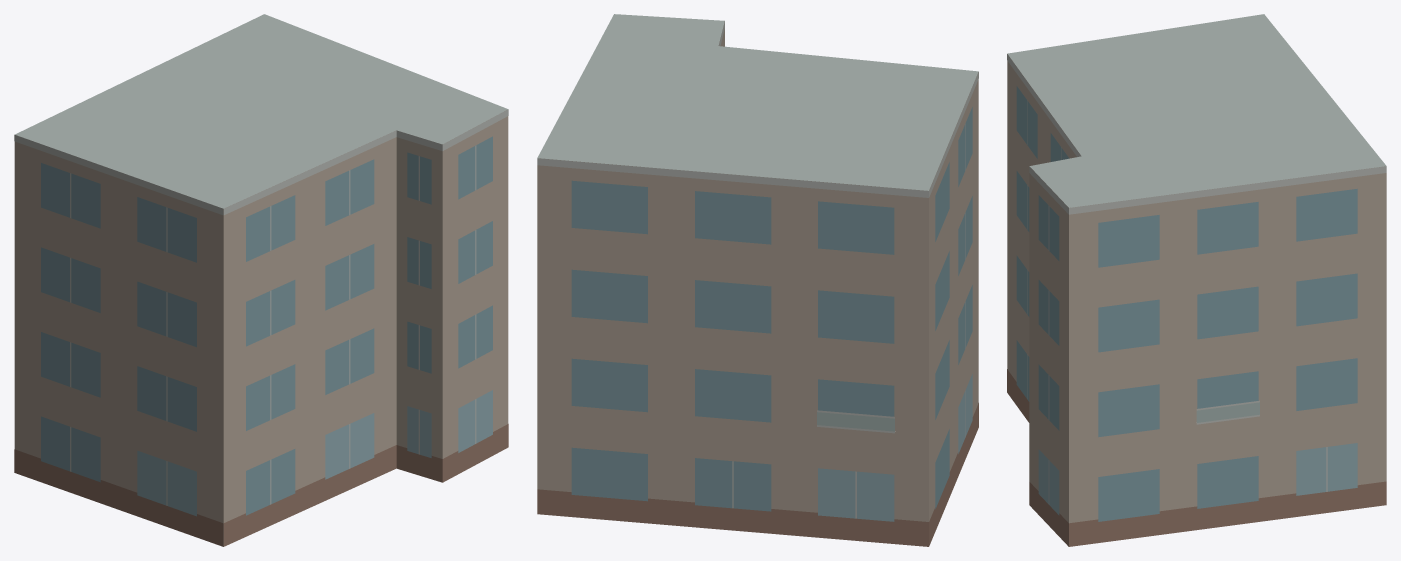
File: residential-292effbb-a3c8-4f1b-bf9e-f817861eb613.glb
3 views of the same model, side by side, from view 1: azimuth 30°, elevation 25°; view 2: azimuth 150°, elevation 25°; view 3: azimuth 270°, elevation 25° (orthographic). The views are drawn at different scales.
Parts seen in each view (by area): view 1: residential-292effbb-a3c8-4f1b-bf9e-f817861eb613.tmp; view 2: residential-292effbb-a3c8-4f1b-bf9e-f817861eb613.tmp; view 3: residential-292effbb-a3c8-4f1b-bf9e-f817861eb613.tmp.
Boxes of the visible parts, x1,y1,x2,y2 form: residential-292effbb-a3c8-4f1b-bf9e-f817861eb613.tmp: [14, 14, 508, 546]; residential-292effbb-a3c8-4f1b-bf9e-f817861eb613.tmp: [537, 14, 978, 546]; residential-292effbb-a3c8-4f1b-bf9e-f817861eb613.tmp: [1007, 14, 1386, 546].
Size of the model in its own units: 14.98 by 12.2 by 12.39.
